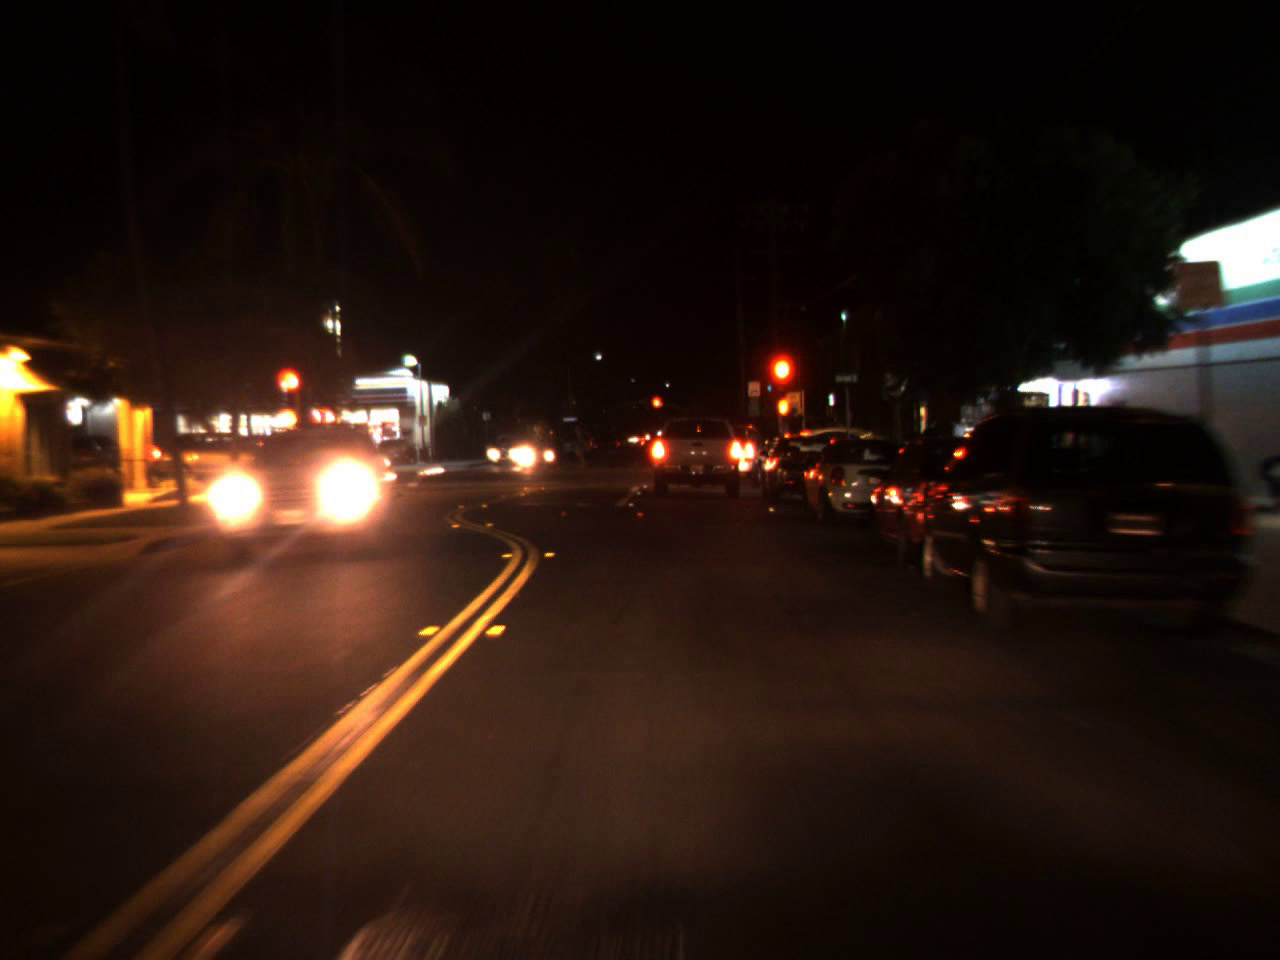stop: (764, 347, 800, 425), (272, 363, 305, 425), (650, 395, 663, 422)
